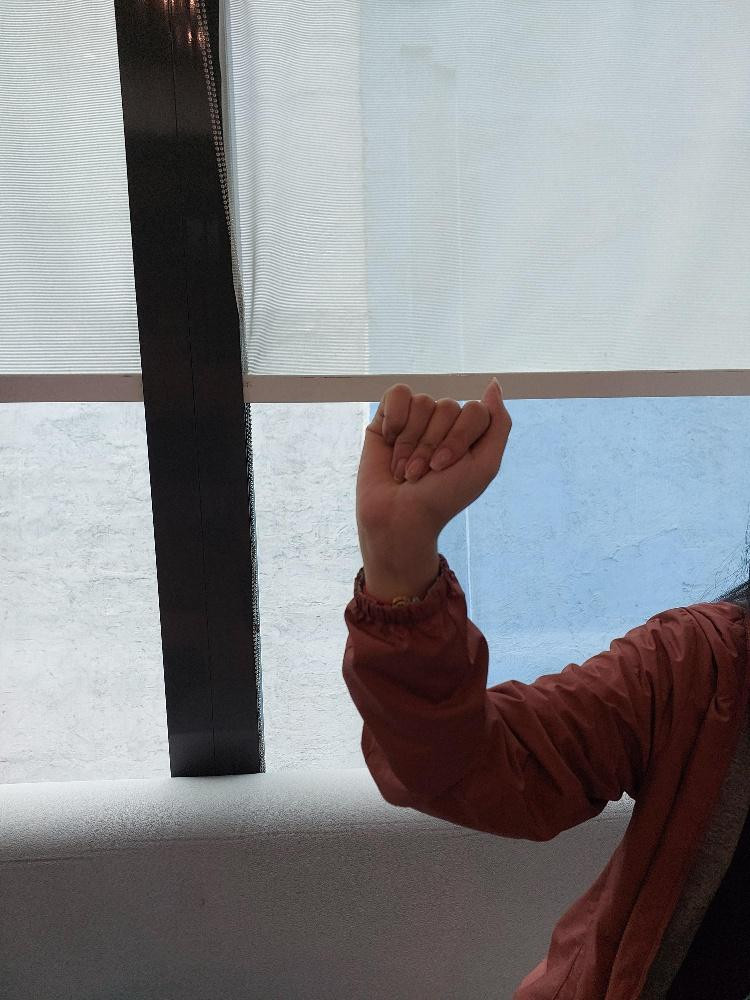a: (354, 376, 516, 544)
